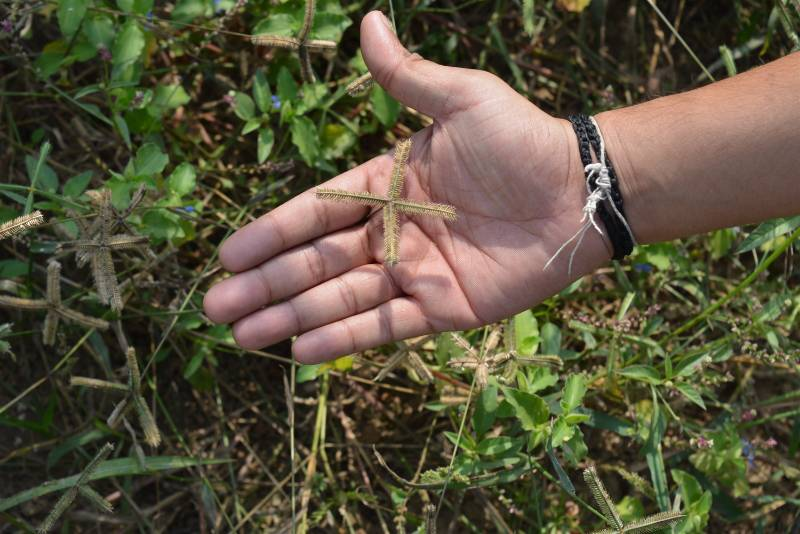plant: (513, 392, 576, 471), (106, 133, 190, 191), (103, 34, 173, 91), (216, 90, 272, 160), (668, 463, 719, 534)
weed: (322, 160, 463, 257), (102, 342, 172, 451), (588, 316, 676, 390), (82, 221, 141, 292), (38, 251, 79, 339), (444, 339, 490, 387), (35, 218, 48, 244)
